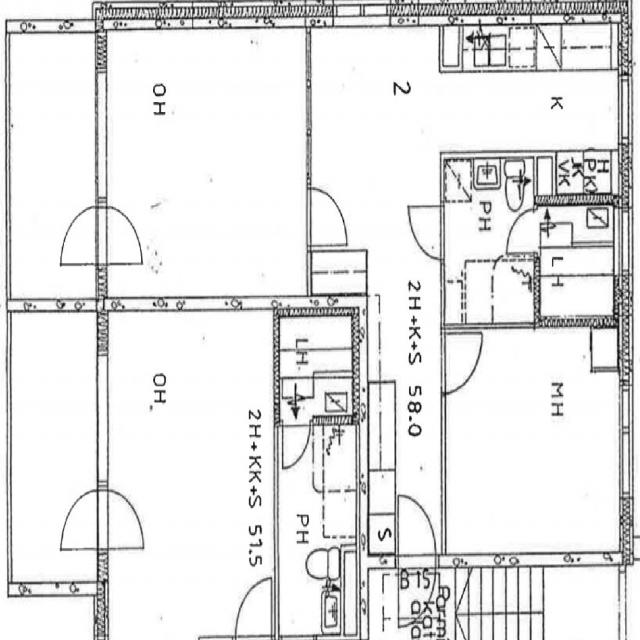door: (398, 492, 436, 564), (398, 552, 436, 624), (96, 207, 142, 265), (60, 207, 106, 265), (440, 334, 482, 392), (406, 206, 446, 260), (306, 190, 346, 244), (508, 211, 540, 251)
